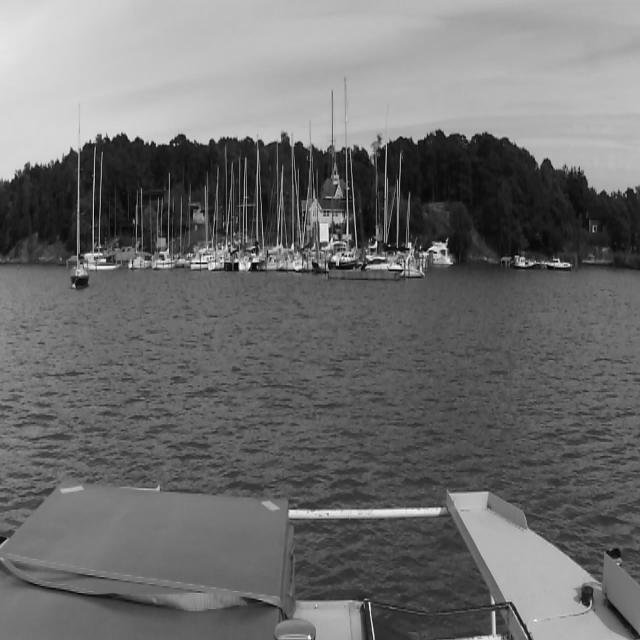ship: (373, 145, 423, 280), (329, 73, 357, 268), (90, 148, 120, 271), (310, 133, 332, 272), (72, 100, 88, 288), (296, 118, 312, 271), (154, 174, 175, 268), (266, 138, 280, 270), (130, 188, 152, 270), (282, 134, 294, 270), (209, 158, 223, 271), (191, 183, 207, 271), (240, 157, 252, 271), (255, 139, 265, 273), (226, 163, 238, 272), (176, 194, 189, 268), (361, 260, 405, 280), (425, 239, 453, 266), (510, 257, 540, 268), (546, 259, 572, 271)
